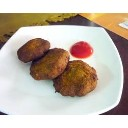cutlet: (58, 61, 101, 96), (33, 50, 68, 76), (15, 36, 48, 57)
